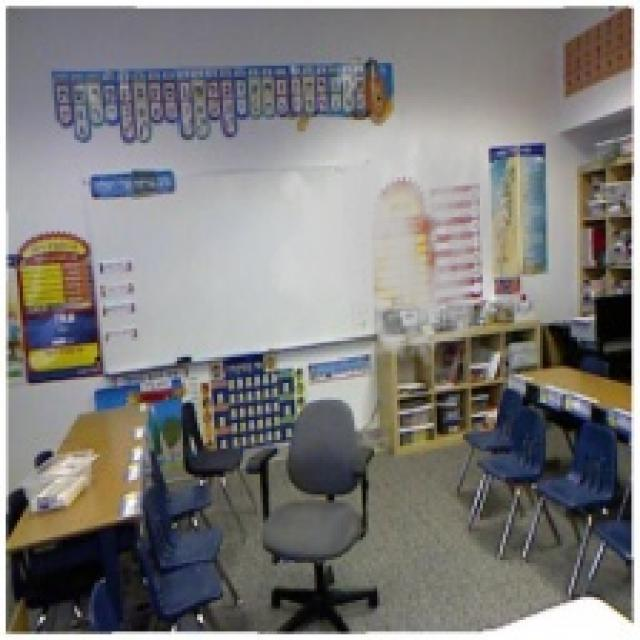Smoke: (268, 92, 512, 368)
